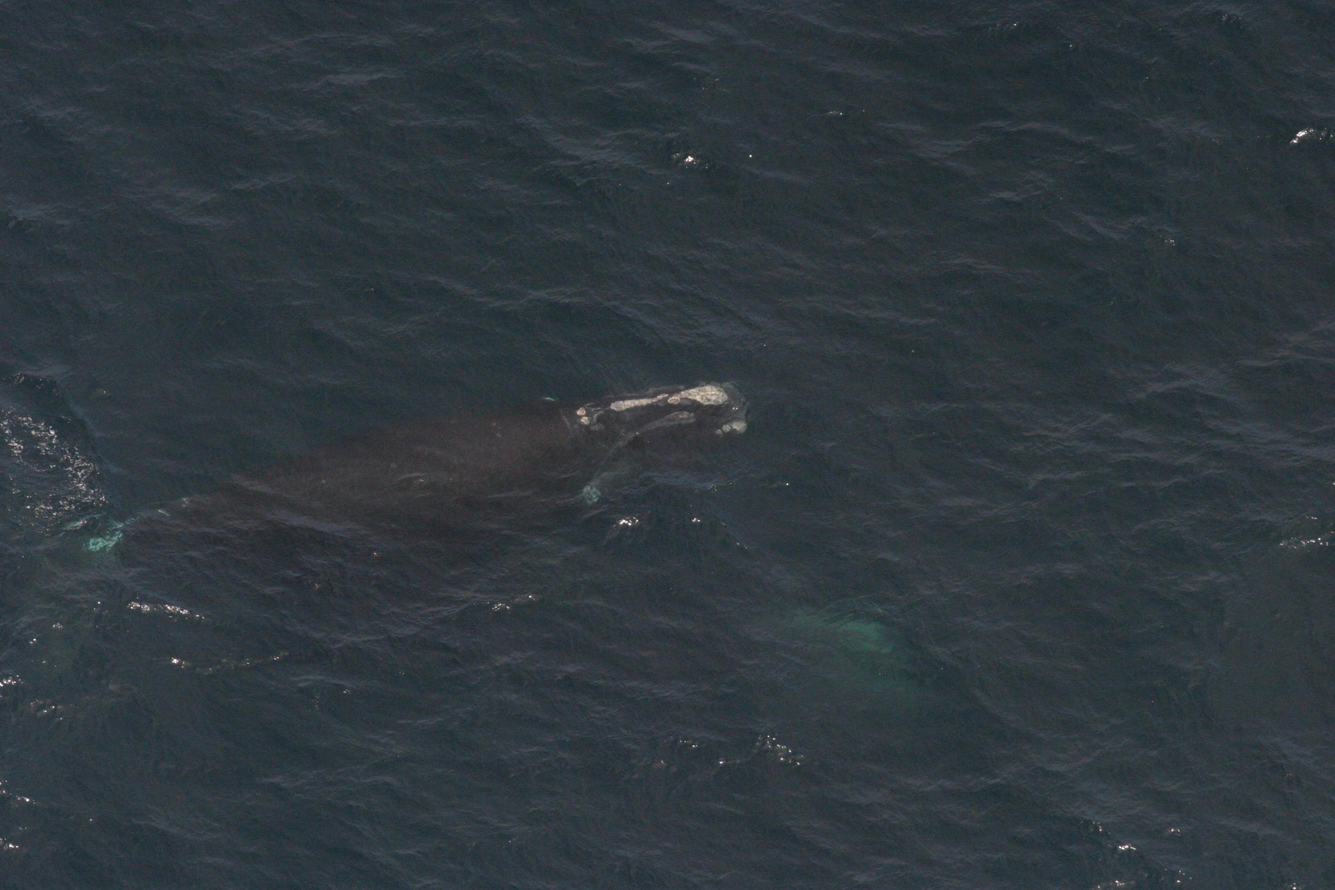whale: (71, 372, 755, 566)
